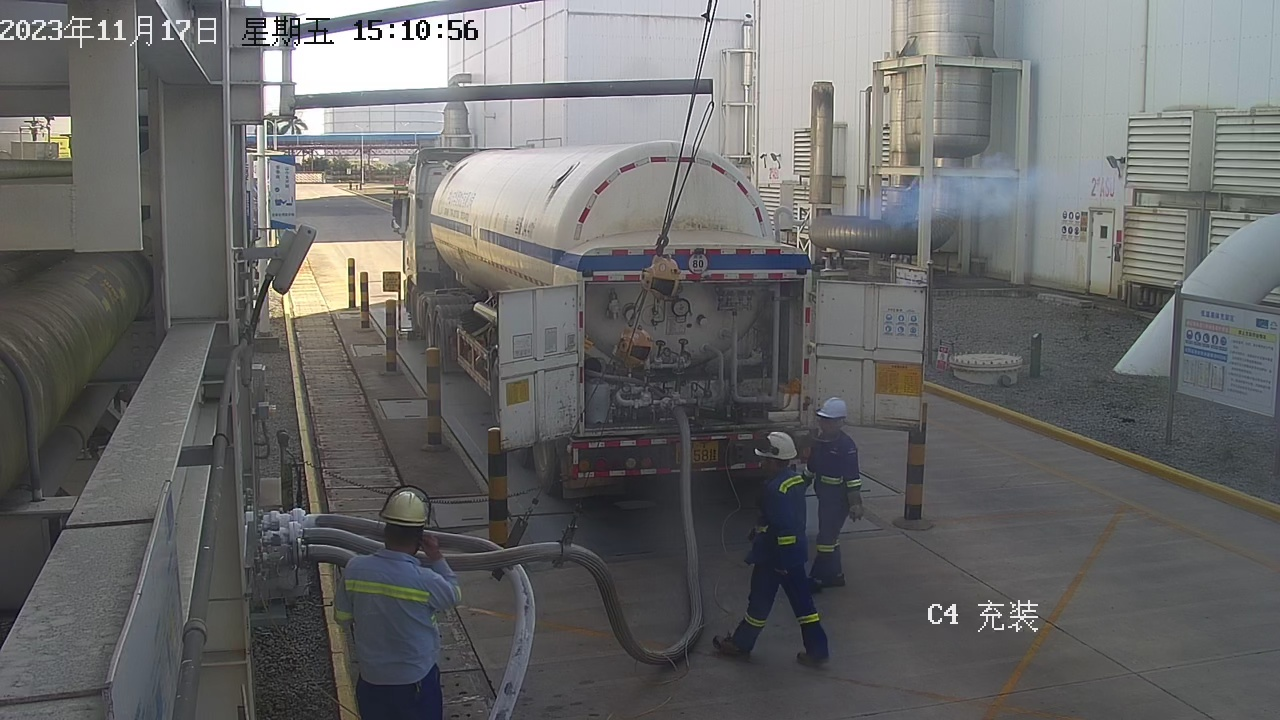Head_with_Helmet: (348, 464, 453, 571), (728, 419, 806, 479), (805, 390, 869, 449)
Uniform: (699, 463, 830, 673), (316, 539, 462, 720), (798, 426, 886, 600)
